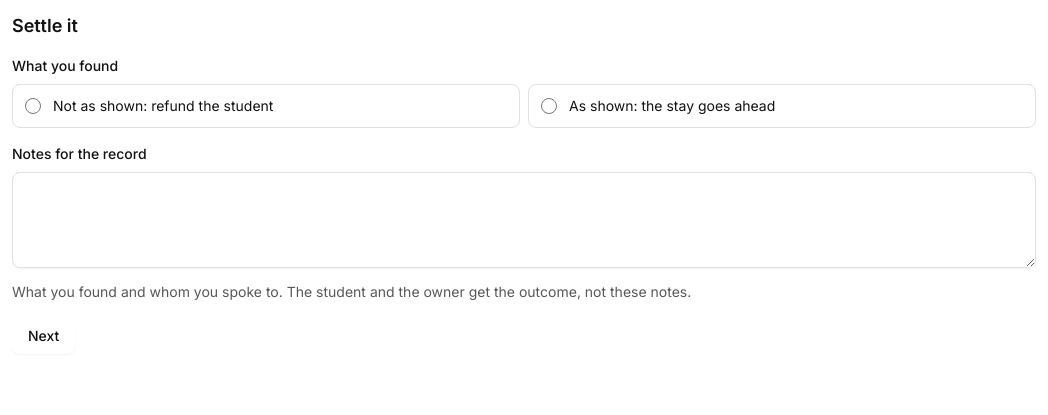
it: DisputeResolve › needs an outcome and notes
Step 1. Click the button "Next" → click(44, 336), box [12,318,75,354]
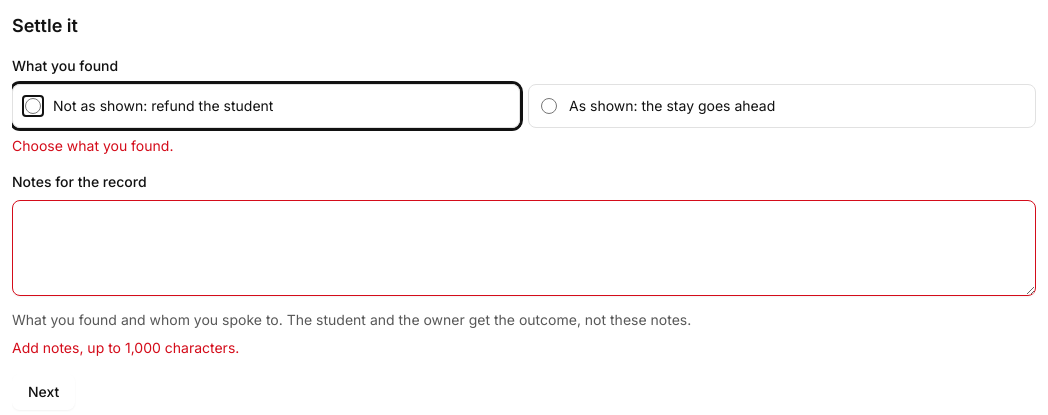
Now the text "Choose what you found." is shown, box [12,137,173,154]
Now the text "Add notes, up to 1,000 characters." is shown, box [12,339,239,356]
